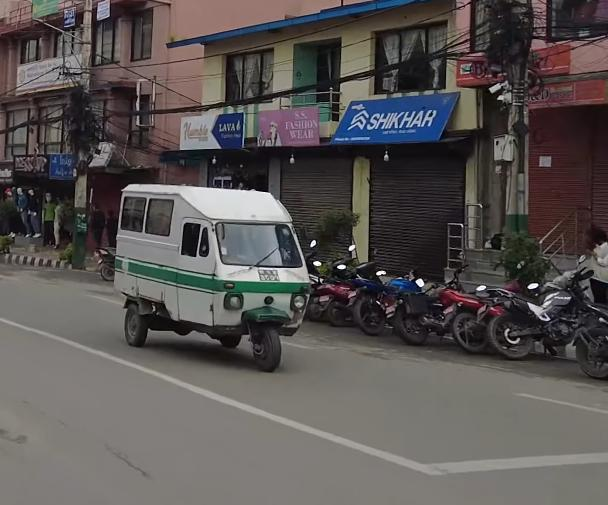bike: (482, 272, 600, 358), (436, 279, 518, 356)
tempo: (110, 181, 315, 373)
